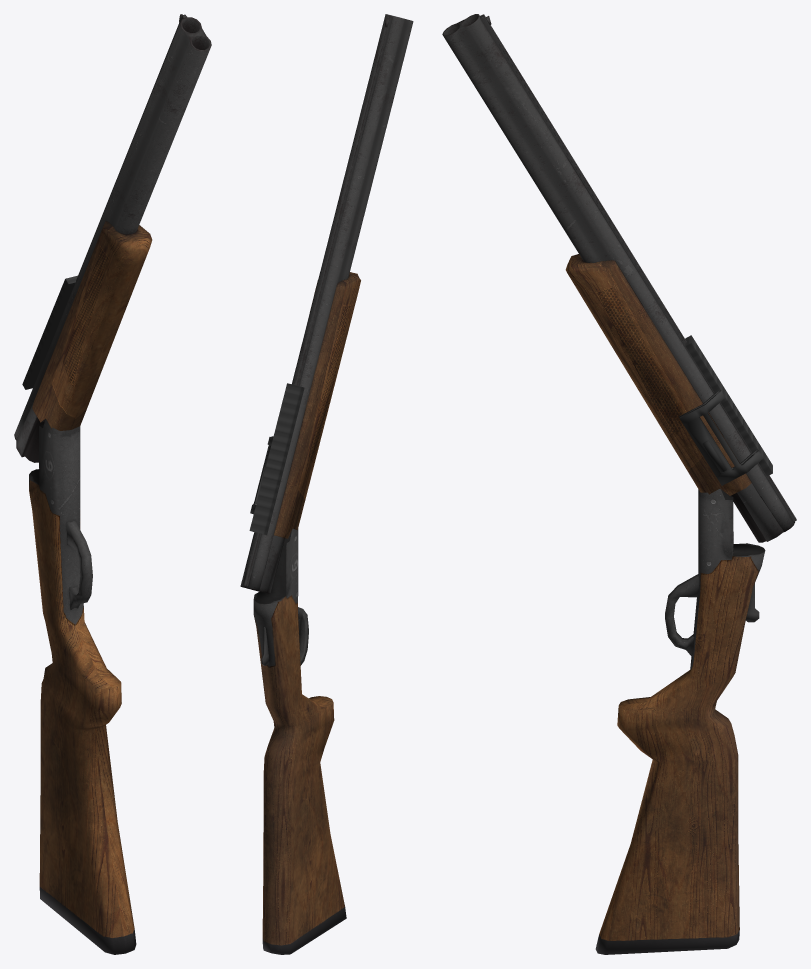
File: TLOG_DoubleBarrelShotgun_open.fbx
3 renders of one model, left to right at view 1: azimuth 30°, elevation 25°; view 2: azimuth 150°, elevation 25°; view 3: azimuth 270°, elevation 25°, orthographic. The views are drawn at different scales.
Parts seen in each view (by area): view 1: DoubleBarrel_open; view 2: DoubleBarrel_open; view 3: DoubleBarrel_open.
Boxes of the visible parts, x1=… form: DoubleBarrel_open: x1=14, y1=14, x2=211, y2=954; DoubleBarrel_open: x1=240, y1=14, x2=413, y2=954; DoubleBarrel_open: x1=442, y1=14, x2=796, y2=954.
Bounding box in the file's own units: 0.023 × 0.5739 × 0.1973.
